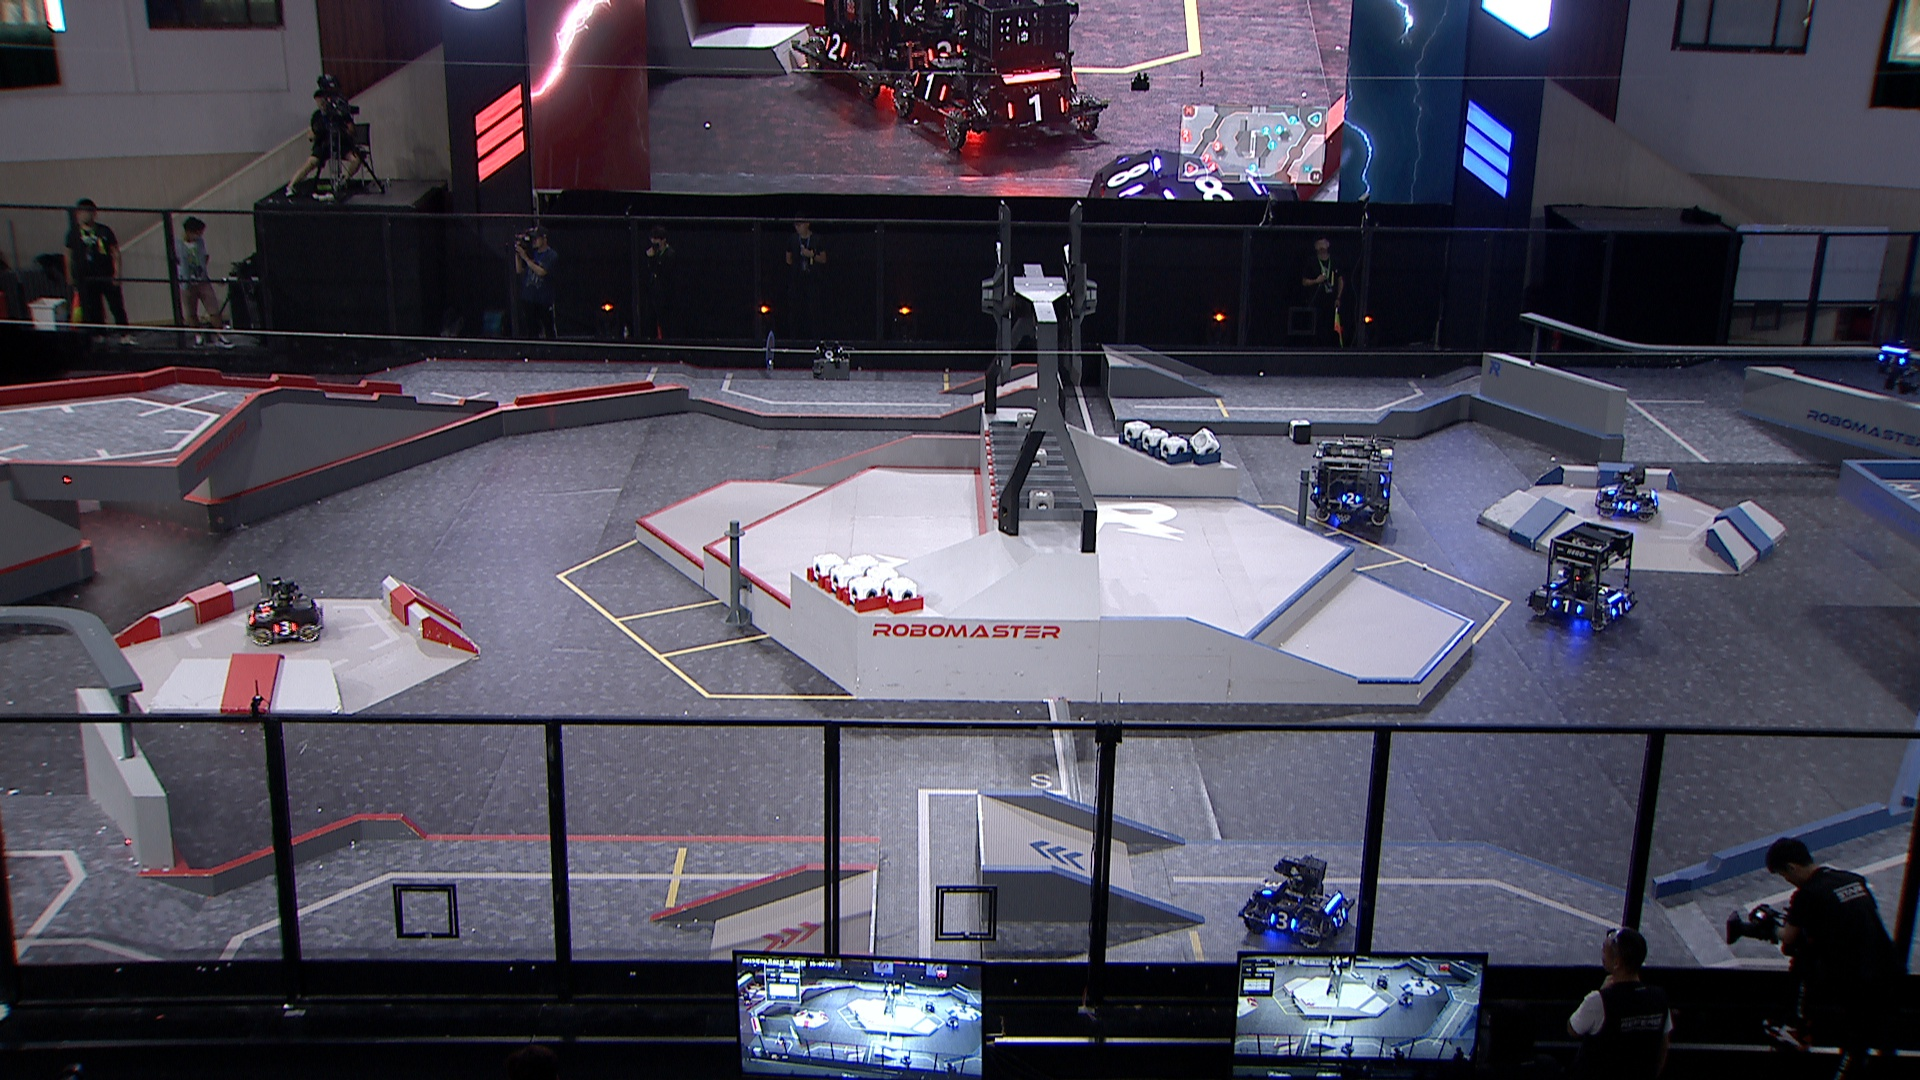armor: (1267, 911, 1298, 934), (1548, 597, 1582, 616), (1875, 352, 1905, 367), (272, 621, 299, 637), (1261, 878, 1283, 897), (1610, 600, 1631, 618), (1340, 491, 1361, 506), (1331, 907, 1346, 928), (1617, 500, 1640, 513), (257, 597, 273, 617)
car: (1523, 520, 1640, 636), (1238, 855, 1356, 953), (1305, 436, 1395, 527), (243, 576, 324, 646), (1594, 465, 1662, 522)
ignore: (889, 0, 1106, 152), (793, 1, 945, 98), (1087, 148, 1299, 200)
watcher: (1874, 343, 1920, 396)
